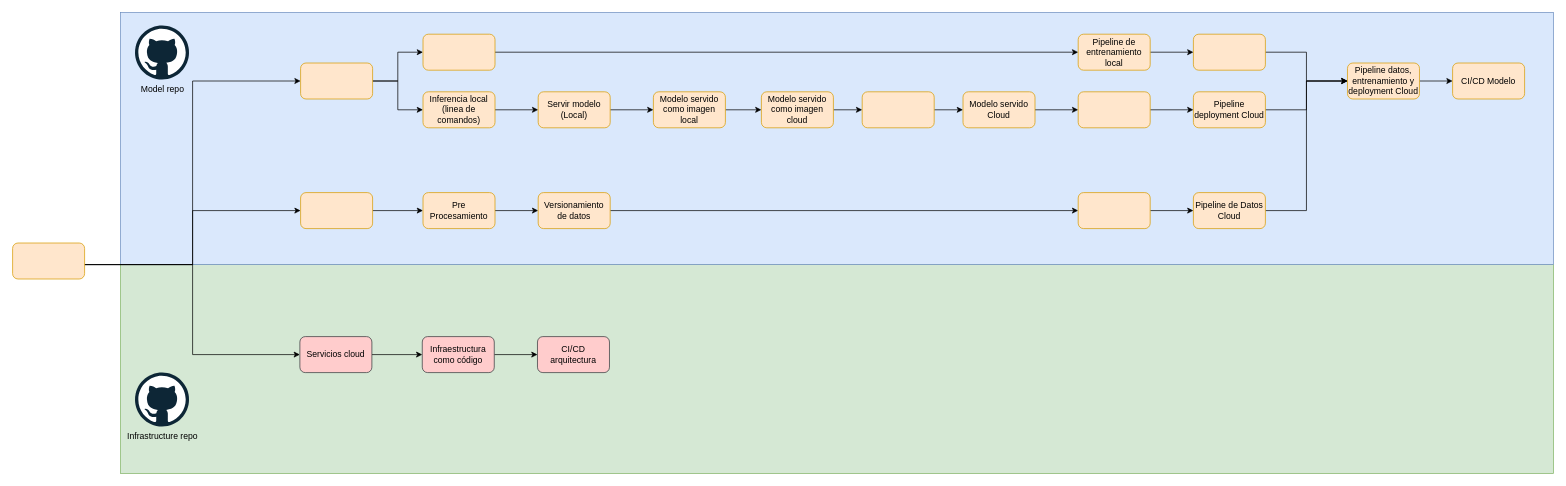
Some shapes in this 1566 by 486 pixel diagram are drawn without their labels. The shapes that lost their labels are listed below. From the top down, each one's centre as x and y in pixels, then its label:
At [458,51]: "Entrenamiento local (linea de comandos)".
At [1229,51]: "Pipeline de entrenamiento Cloud".
At [336,80]: "Modelo".
At [897,109]: "Modelo registrado en cloud".
At [1113,109]: "Pipeline deployment Local".
At [336,210]: "Data".
At [1113,210]: "Pipeline de Datos Local".
At [48,260]: "Problema".
